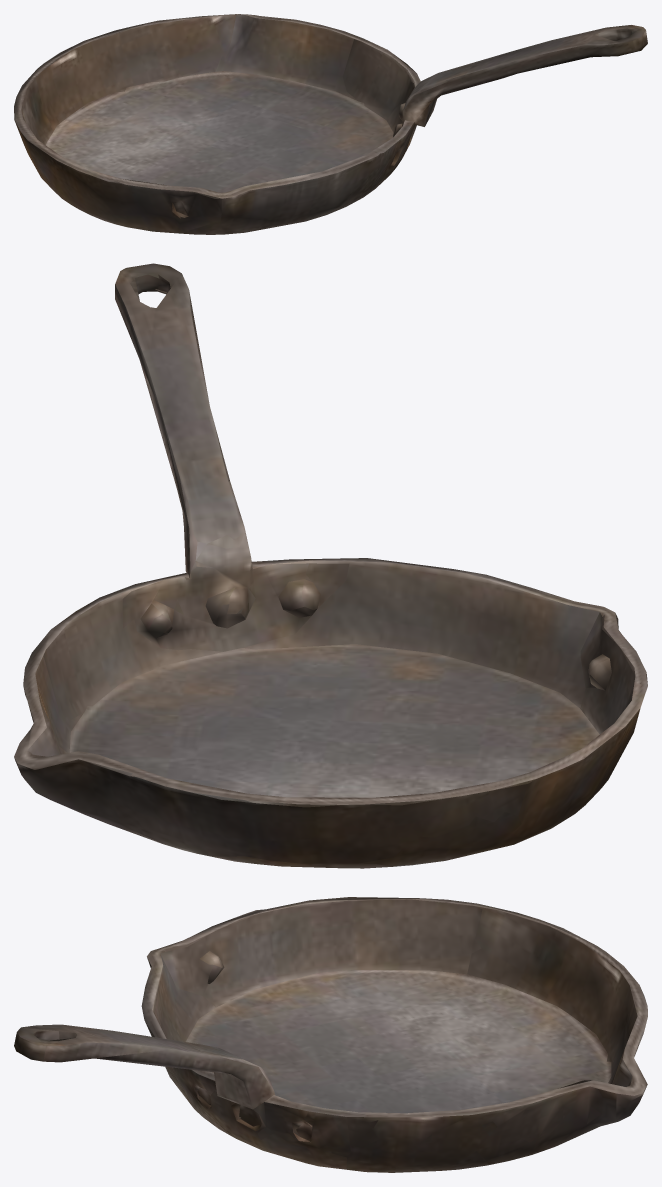
3 views of the same model, one above another, from view 1: azimuth 30°, elevation 25°; view 2: azimuth 150°, elevation 25°; view 3: azimuth 270°, elevation 25° (orthographic). The views are drawn at different scales.
Parts seen in each view (by area): view 1: geometry_0; view 2: geometry_0; view 3: geometry_0.
Part boxes in pixels (left/top/right/bottom): geometry_0: left=14, top=14, right=647, bottom=234; geometry_0: left=14, top=263, right=647, bottom=868; geometry_0: left=14, top=897, right=647, bottom=1172.
Bounding box in the file's own units: 0.3787 × 0.1306 × 0.3559.
Materials: 1 (1 with a texture image).
